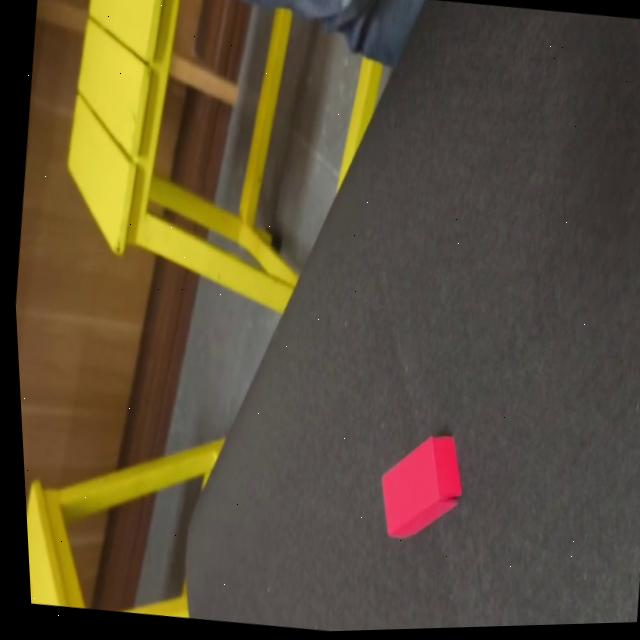red block: (370, 424, 471, 544)
